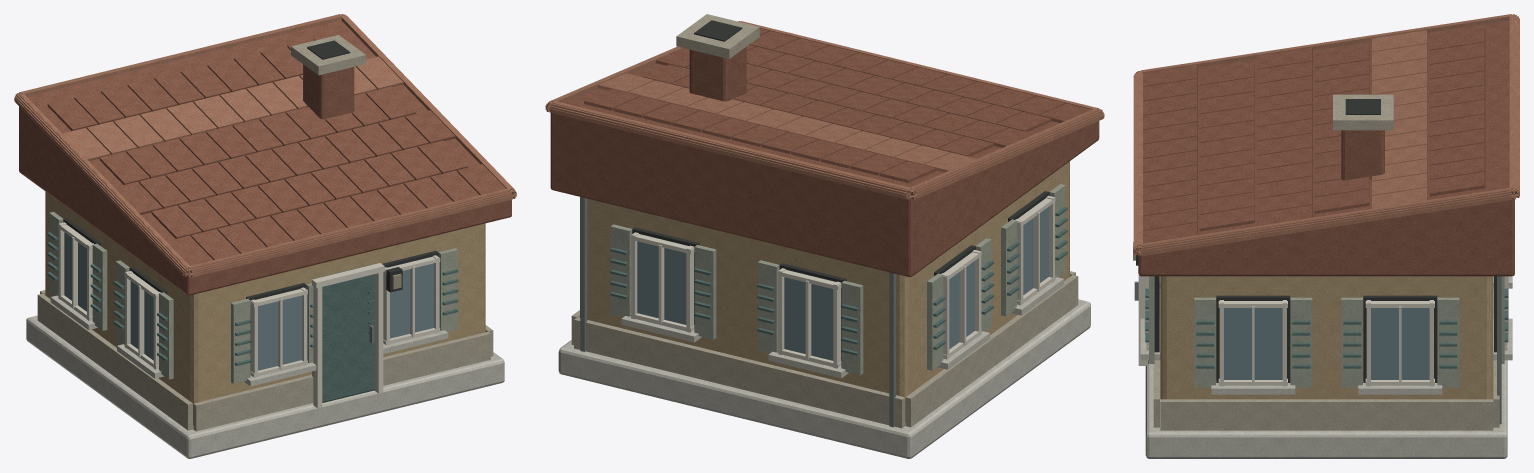
Rendered from RES_LOW_1x1_005.glb.
The picture shows the model from 3 angles, left to right: view 1: azimuth 30°, elevation 25°; view 2: azimuth 150°, elevation 25°; view 3: azimuth 270°, elevation 25°; orthographic projection. The views are drawn at different scales.
Parts seen in each view (by area): view 1: RES_LOW_1x1_005_Visual; view 2: RES_LOW_1x1_005_Visual; view 3: RES_LOW_1x1_005_Visual.
Part boxes in pixels (bbox=[...]): RES_LOW_1x1_005_Visual: bbox=[14, 14, 516, 458]; RES_LOW_1x1_005_Visual: bbox=[545, 14, 1104, 458]; RES_LOW_1x1_005_Visual: bbox=[1133, 14, 1519, 458].
Size of what is drawn, in the model's own units: 1.75 by 1.41 by 1.59.
Materials: 12 (7 with a texture image).
